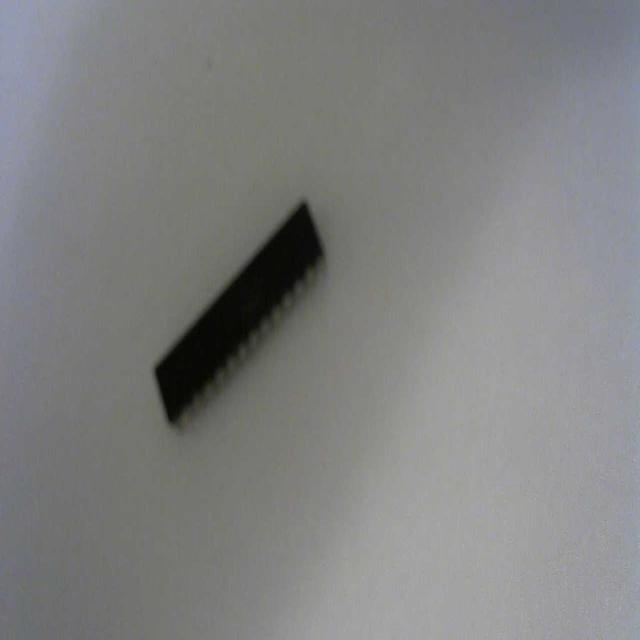atmega: (151, 196, 327, 430)
